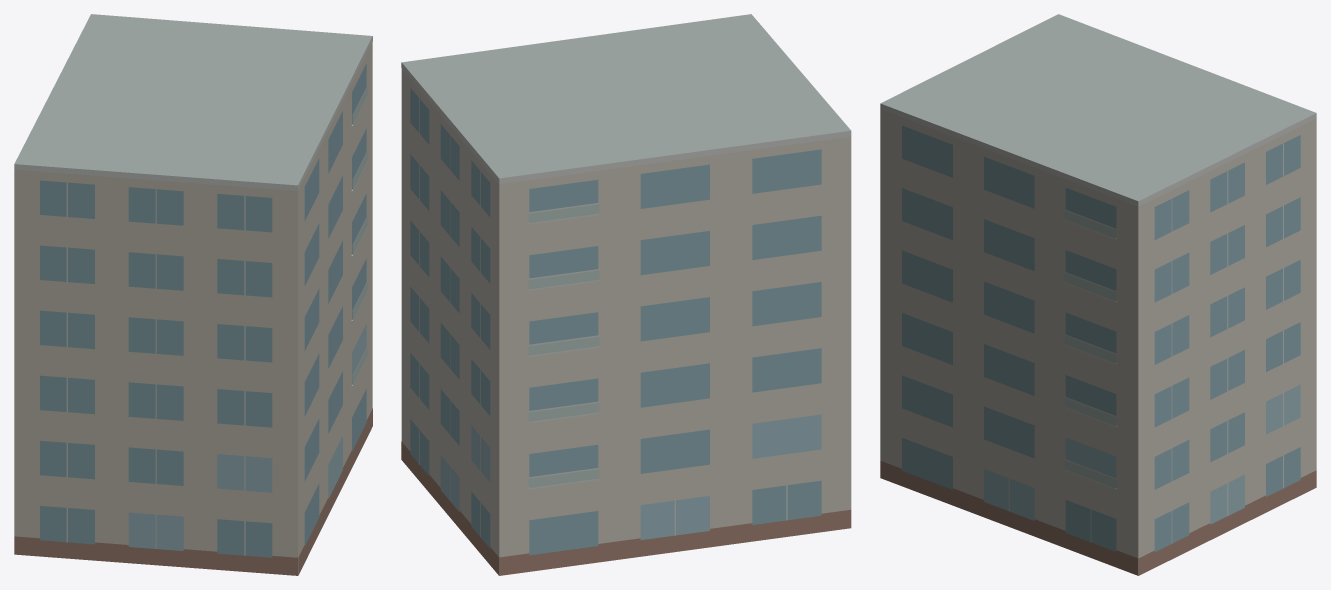
Rendered from survey-upis-32971832.glb.
3 views of the same model, side by side, from view 1: azimuth 30°, elevation 25°; view 2: azimuth 150°, elevation 25°; view 3: azimuth 270°, elevation 25° (orthographic). The views are drawn at different scales.
Parts seen in each view (by area): view 1: survey-upis-32971832.tmp; view 2: survey-upis-32971832.tmp; view 3: survey-upis-32971832.tmp.
Part boxes in pixels (x1,y1,x2,y2): survey-upis-32971832.tmp: [14, 14, 372, 575]; survey-upis-32971832.tmp: [401, 14, 851, 575]; survey-upis-32971832.tmp: [880, 14, 1316, 575].
Size of the model in its own units: 18.03 by 16.8 by 17.75.
